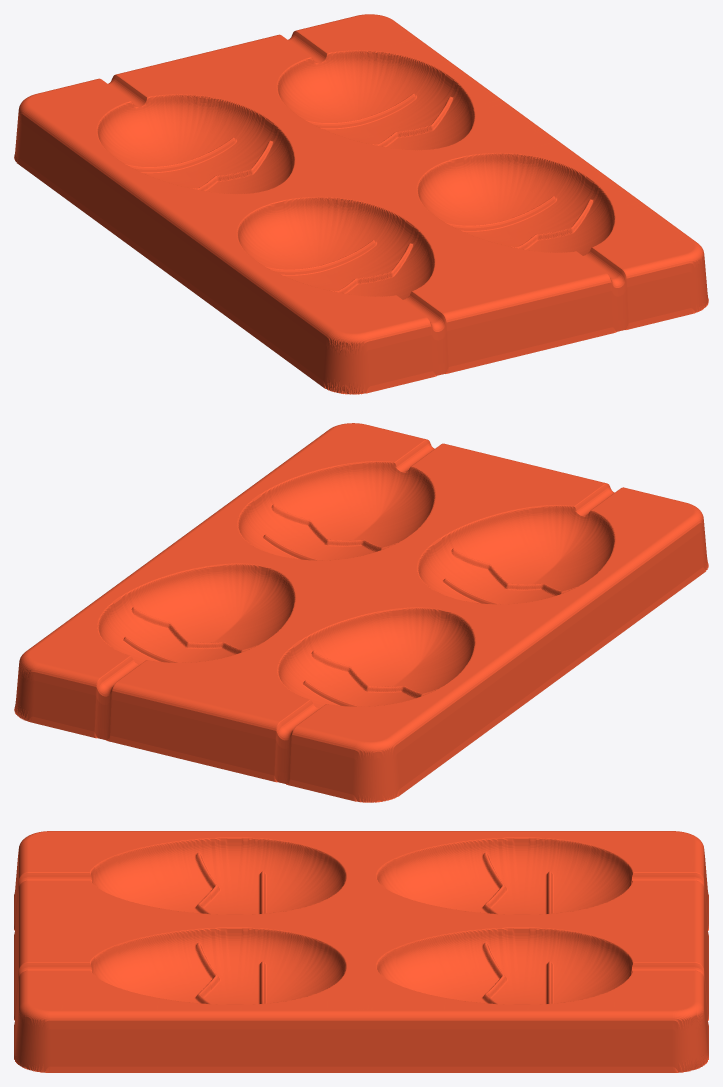
Rendered from mold.glb.
The picture shows the model from 3 angles, top to bottom: view 1: azimuth 30°, elevation 25°; view 2: azimuth 150°, elevation 25°; view 3: azimuth 270°, elevation 25°; orthographic projection. The views are drawn at different scales.
Parts seen in each view (by area): view 1: geometry_0; view 2: geometry_0; view 3: geometry_0.
Boxes of the visible parts, x1=… form: geometry_0: x1=14, y1=14, x2=708, y2=394; geometry_0: x1=14, y1=423, x2=708, y2=802; geometry_0: x1=14, y1=831, x2=708, y2=1072.
Size of the model in its own units: 0.1127 by 0.0155 by 0.1735.
